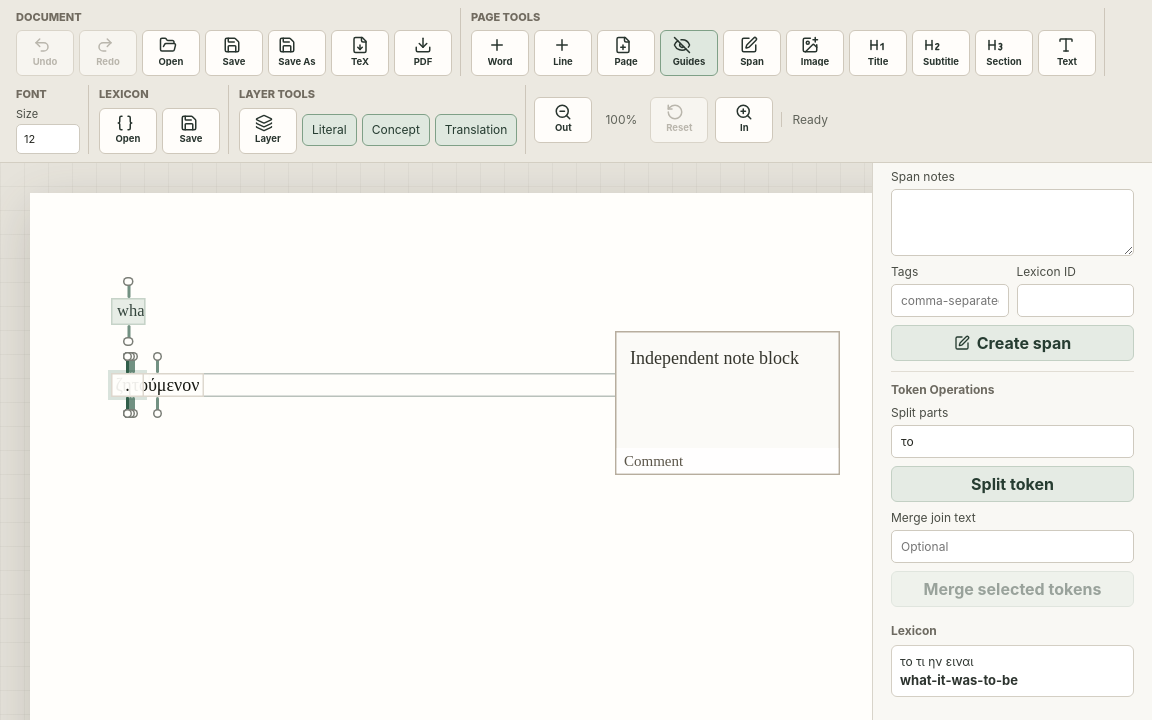
App editor › splits the selected token from inspector controls
(page scrolled)
Replace the text in the field labelled "Split parts" with "τ ο": (1012, 441) [891,425,1134,458]
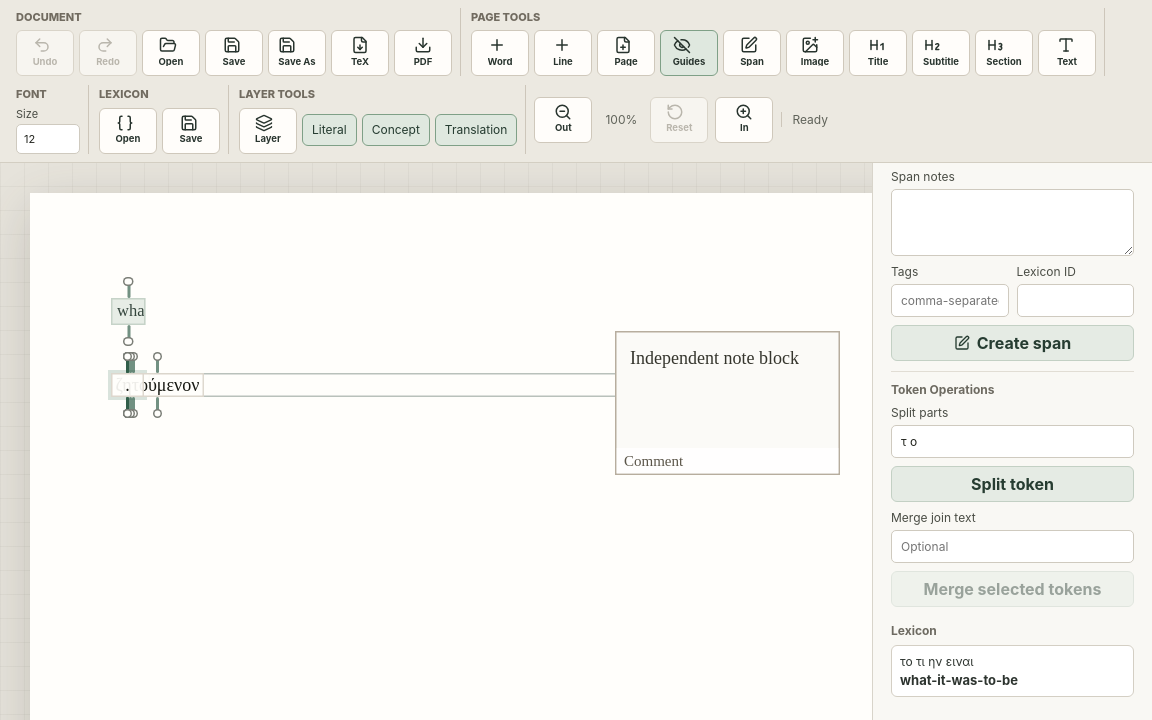
Click the button "Split token": (1012, 484) [891,466,1134,502]
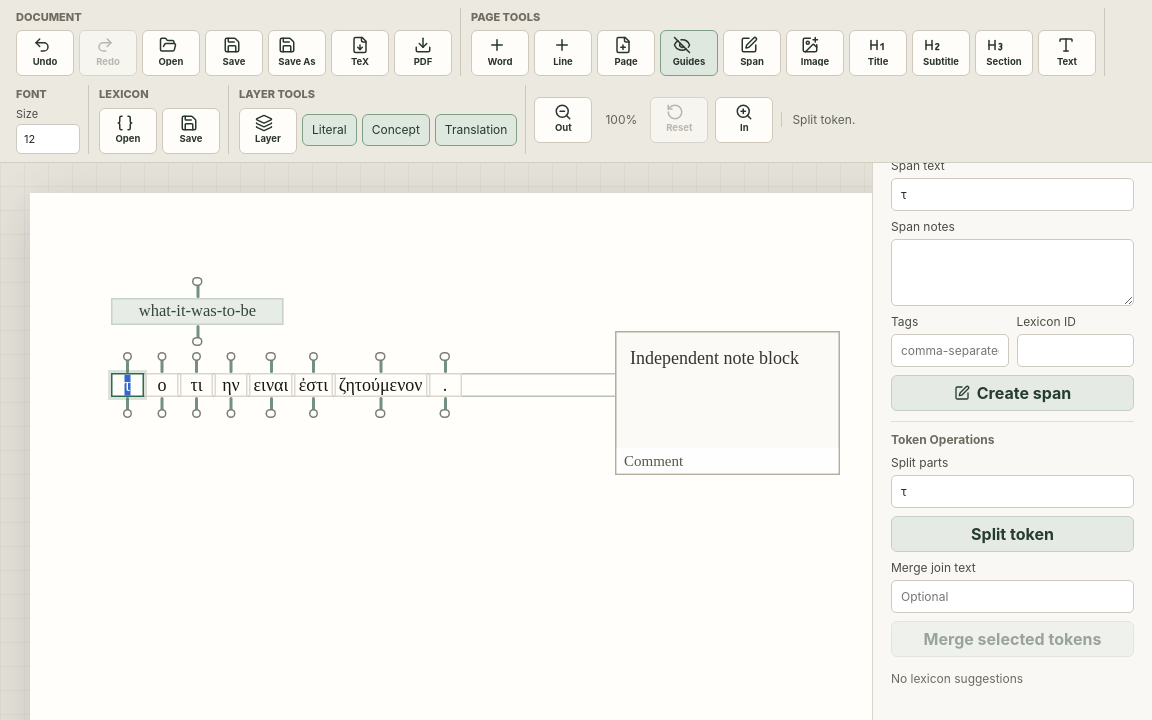
Expected: the field named "Word box τ" is shown, [116,374,140,396]
Expected: the field named "Word box ο" is shown, [150,374,174,396]
